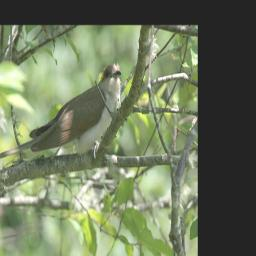Cuckoo: (0, 61, 122, 169)
